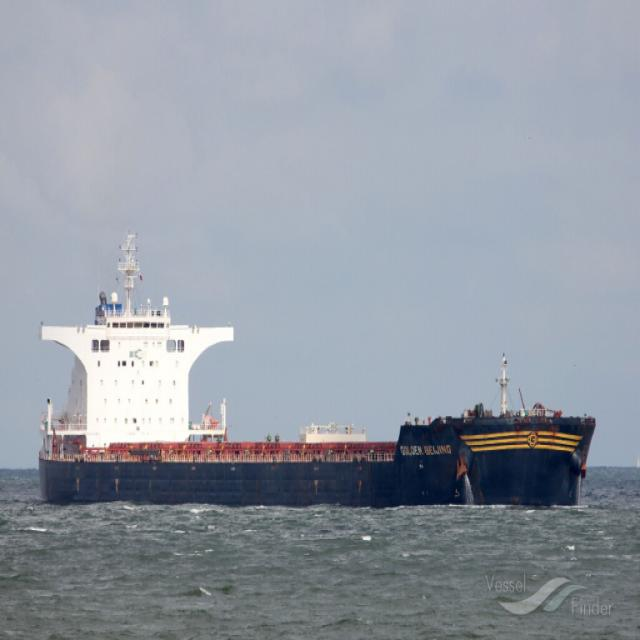OCR: (396, 436, 457, 468)
